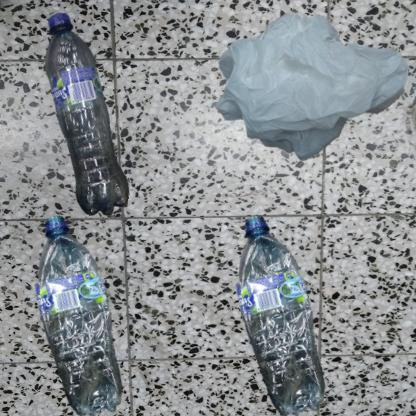bolsa: (213, 10, 412, 165)
botella: (10, 10, 177, 243), (10, 213, 166, 416), (213, 213, 365, 416)
